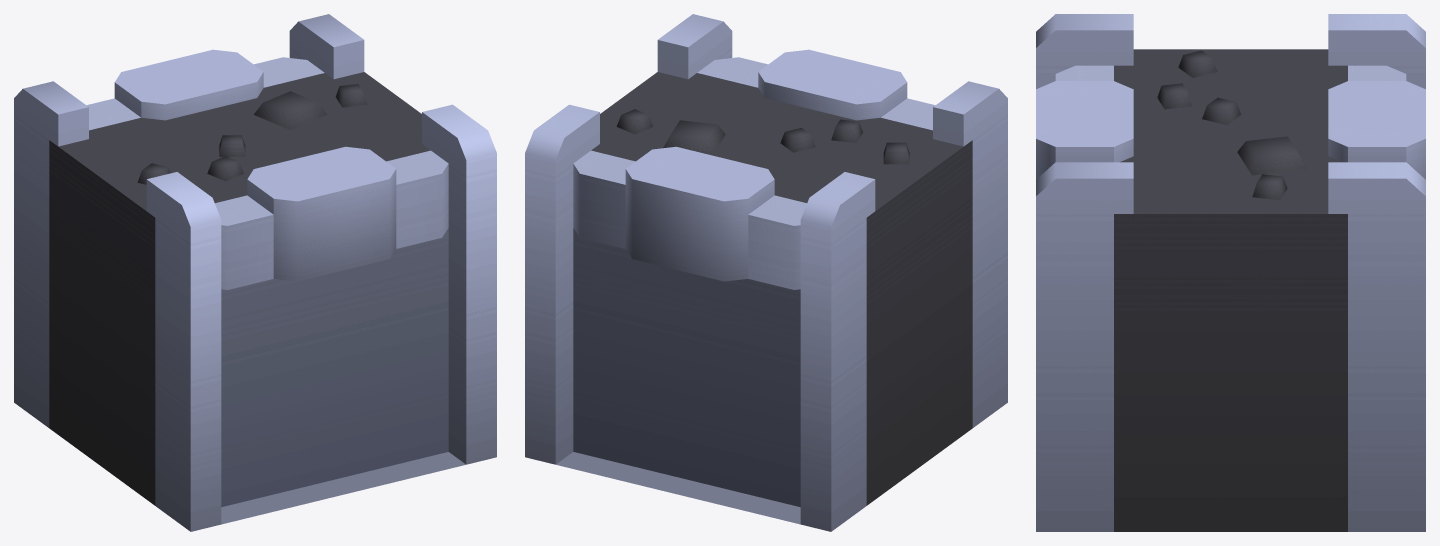
The model's file is wall-narrow_1.glb.
3 renders of one model, left to right at view 1: azimuth 30°, elevation 25°; view 2: azimuth 150°, elevation 25°; view 3: azimuth 270°, elevation 25°, orthographic. The views are drawn at different scales.
Visible parts, largest first — view 1: wall-narrow; view 2: wall-narrow; view 3: wall-narrow.
Part boxes in pixels (x1=…): wall-narrow: x1=14, y1=14, x2=496, y2=531; wall-narrow: x1=525, y1=14, x2=1007, y2=531; wall-narrow: x1=1036, y1=14, x2=1425, y2=531.
Bounding box in the file's own units: 1 × 1 × 1.
1 material, 1 textured.
